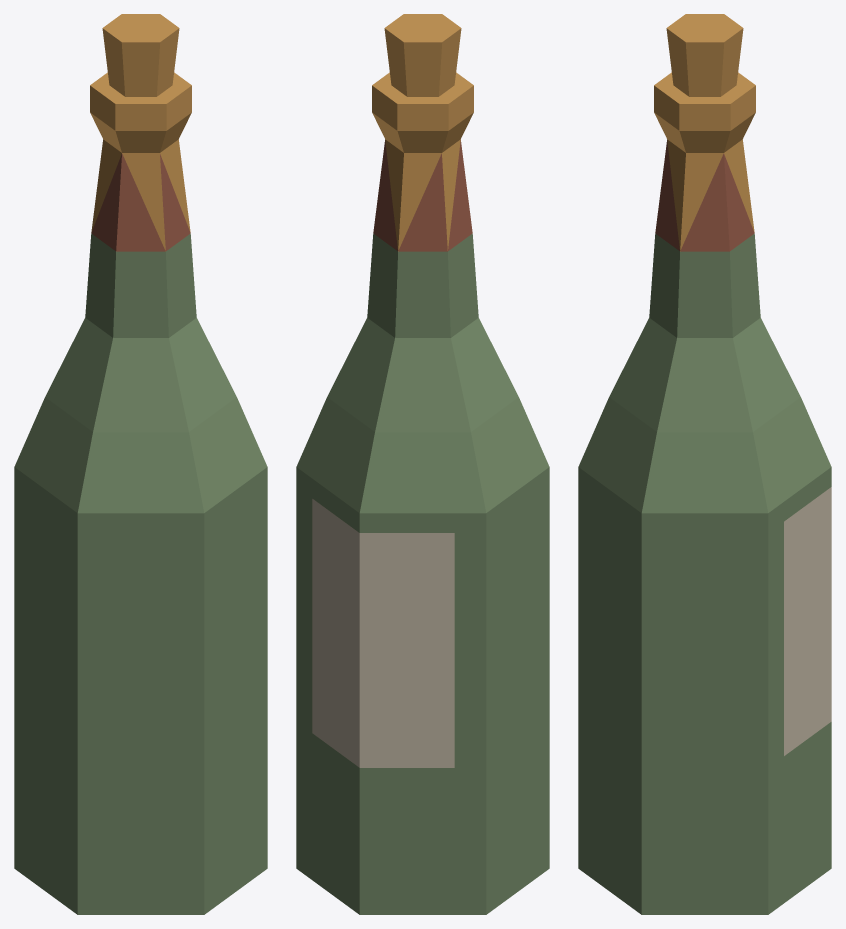
The model's file is bottle.dae.
3 renders of one model, left to right at view 1: azimuth 30°, elevation 25°; view 2: azimuth 150°, elevation 25°; view 3: azimuth 270°, elevation 25°, orthographic.
Parts seen in each view (by area): view 1: bottle; view 2: bottle; view 3: bottle.
Part boxes in pixels (box(x1,y1,x2,y2)): bottle: box(14, 14, 267, 914); bottle: box(296, 14, 549, 914); bottle: box(578, 14, 831, 914).
Size of the model in its own units: 0.0709 by 0.0819 by 0.3.
